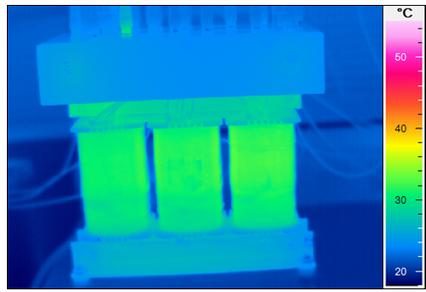Loose Joint -Potential: (71, 102, 299, 227)
